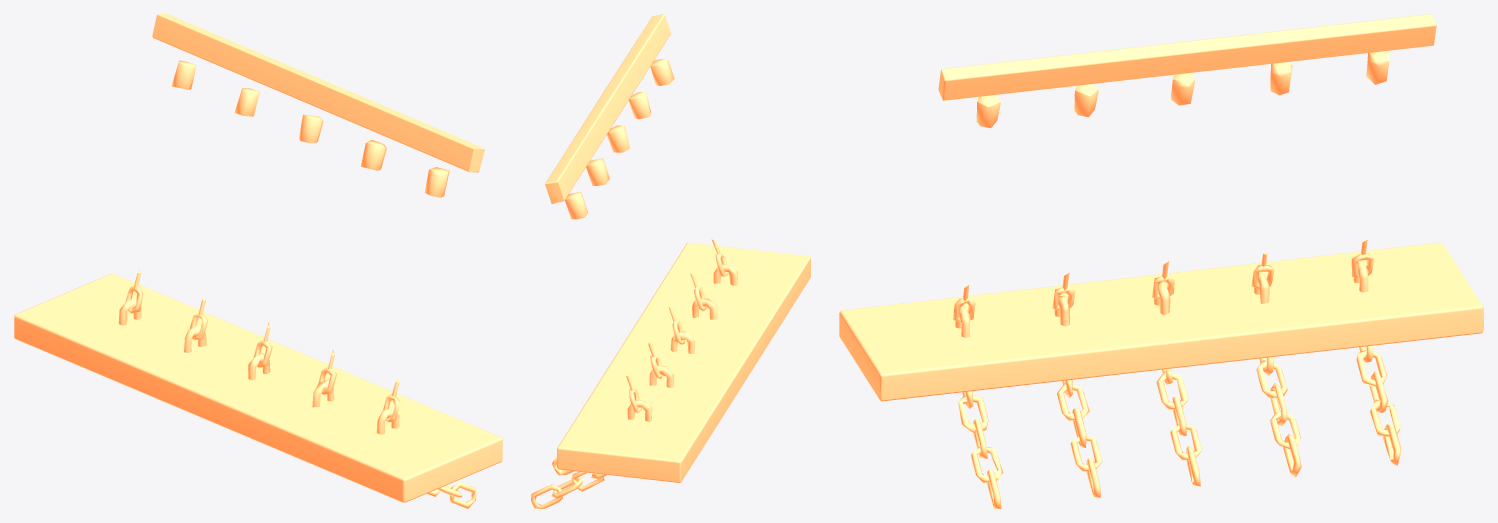
The model's file is SM_ShroudSupport02.fbx.
The picture shows the model from 3 angles, left to right: view 1: azimuth 30°, elevation 25°; view 2: azimuth 150°, elevation 25°; view 3: azimuth 270°, elevation 25°; orthographic projection. The views are drawn at different scales.
Visible parts, largest first — view 1: SM_ShroudSupport02_LOD0; view 2: SM_ShroudSupport02_LOD0; view 3: SM_ShroudSupport02_LOD0.
Boxes of the visible parts, box(x1,y1,x2,y2) form: SM_ShroudSupport02_LOD0: box(14, 14, 502, 508); SM_ShroudSupport02_LOD0: box(531, 14, 810, 508); SM_ShroudSupport02_LOD0: box(839, 14, 1483, 508).
Size of the model in its own units: 146 by 271 by 200.
